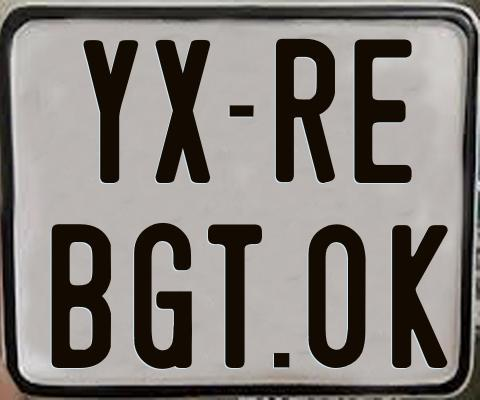0: (307, 224, 369, 369)
B: (52, 224, 112, 370)
E: (354, 37, 418, 185)
G: (131, 220, 193, 372)
K: (391, 224, 449, 370)
R: (275, 38, 334, 186)
T: (206, 221, 266, 368)
X: (154, 40, 212, 186)
Y: (80, 39, 135, 188)
